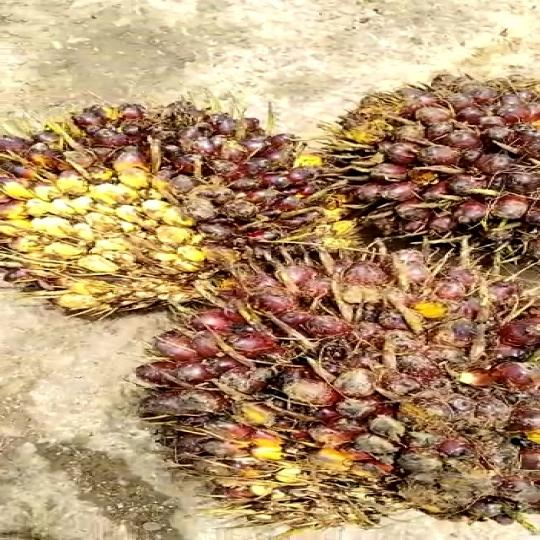kurang masak: (1, 107, 324, 330), (320, 70, 540, 280)
